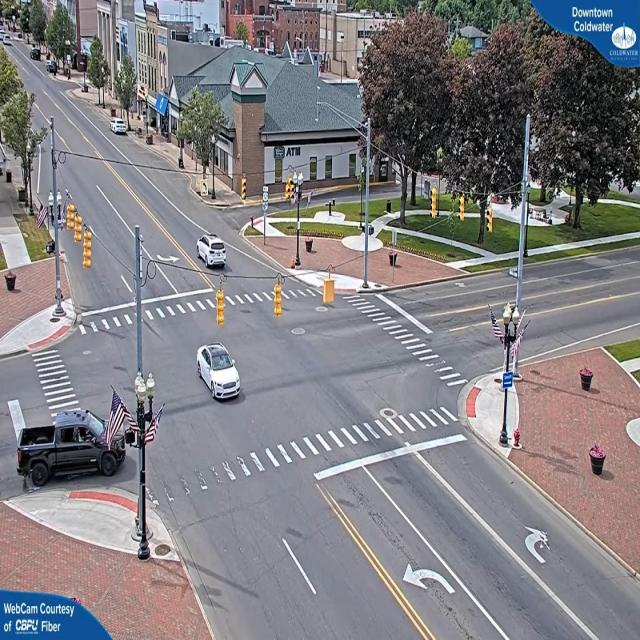car: (18, 402, 127, 492), (197, 343, 244, 401), (195, 234, 228, 268), (112, 121, 130, 138)
